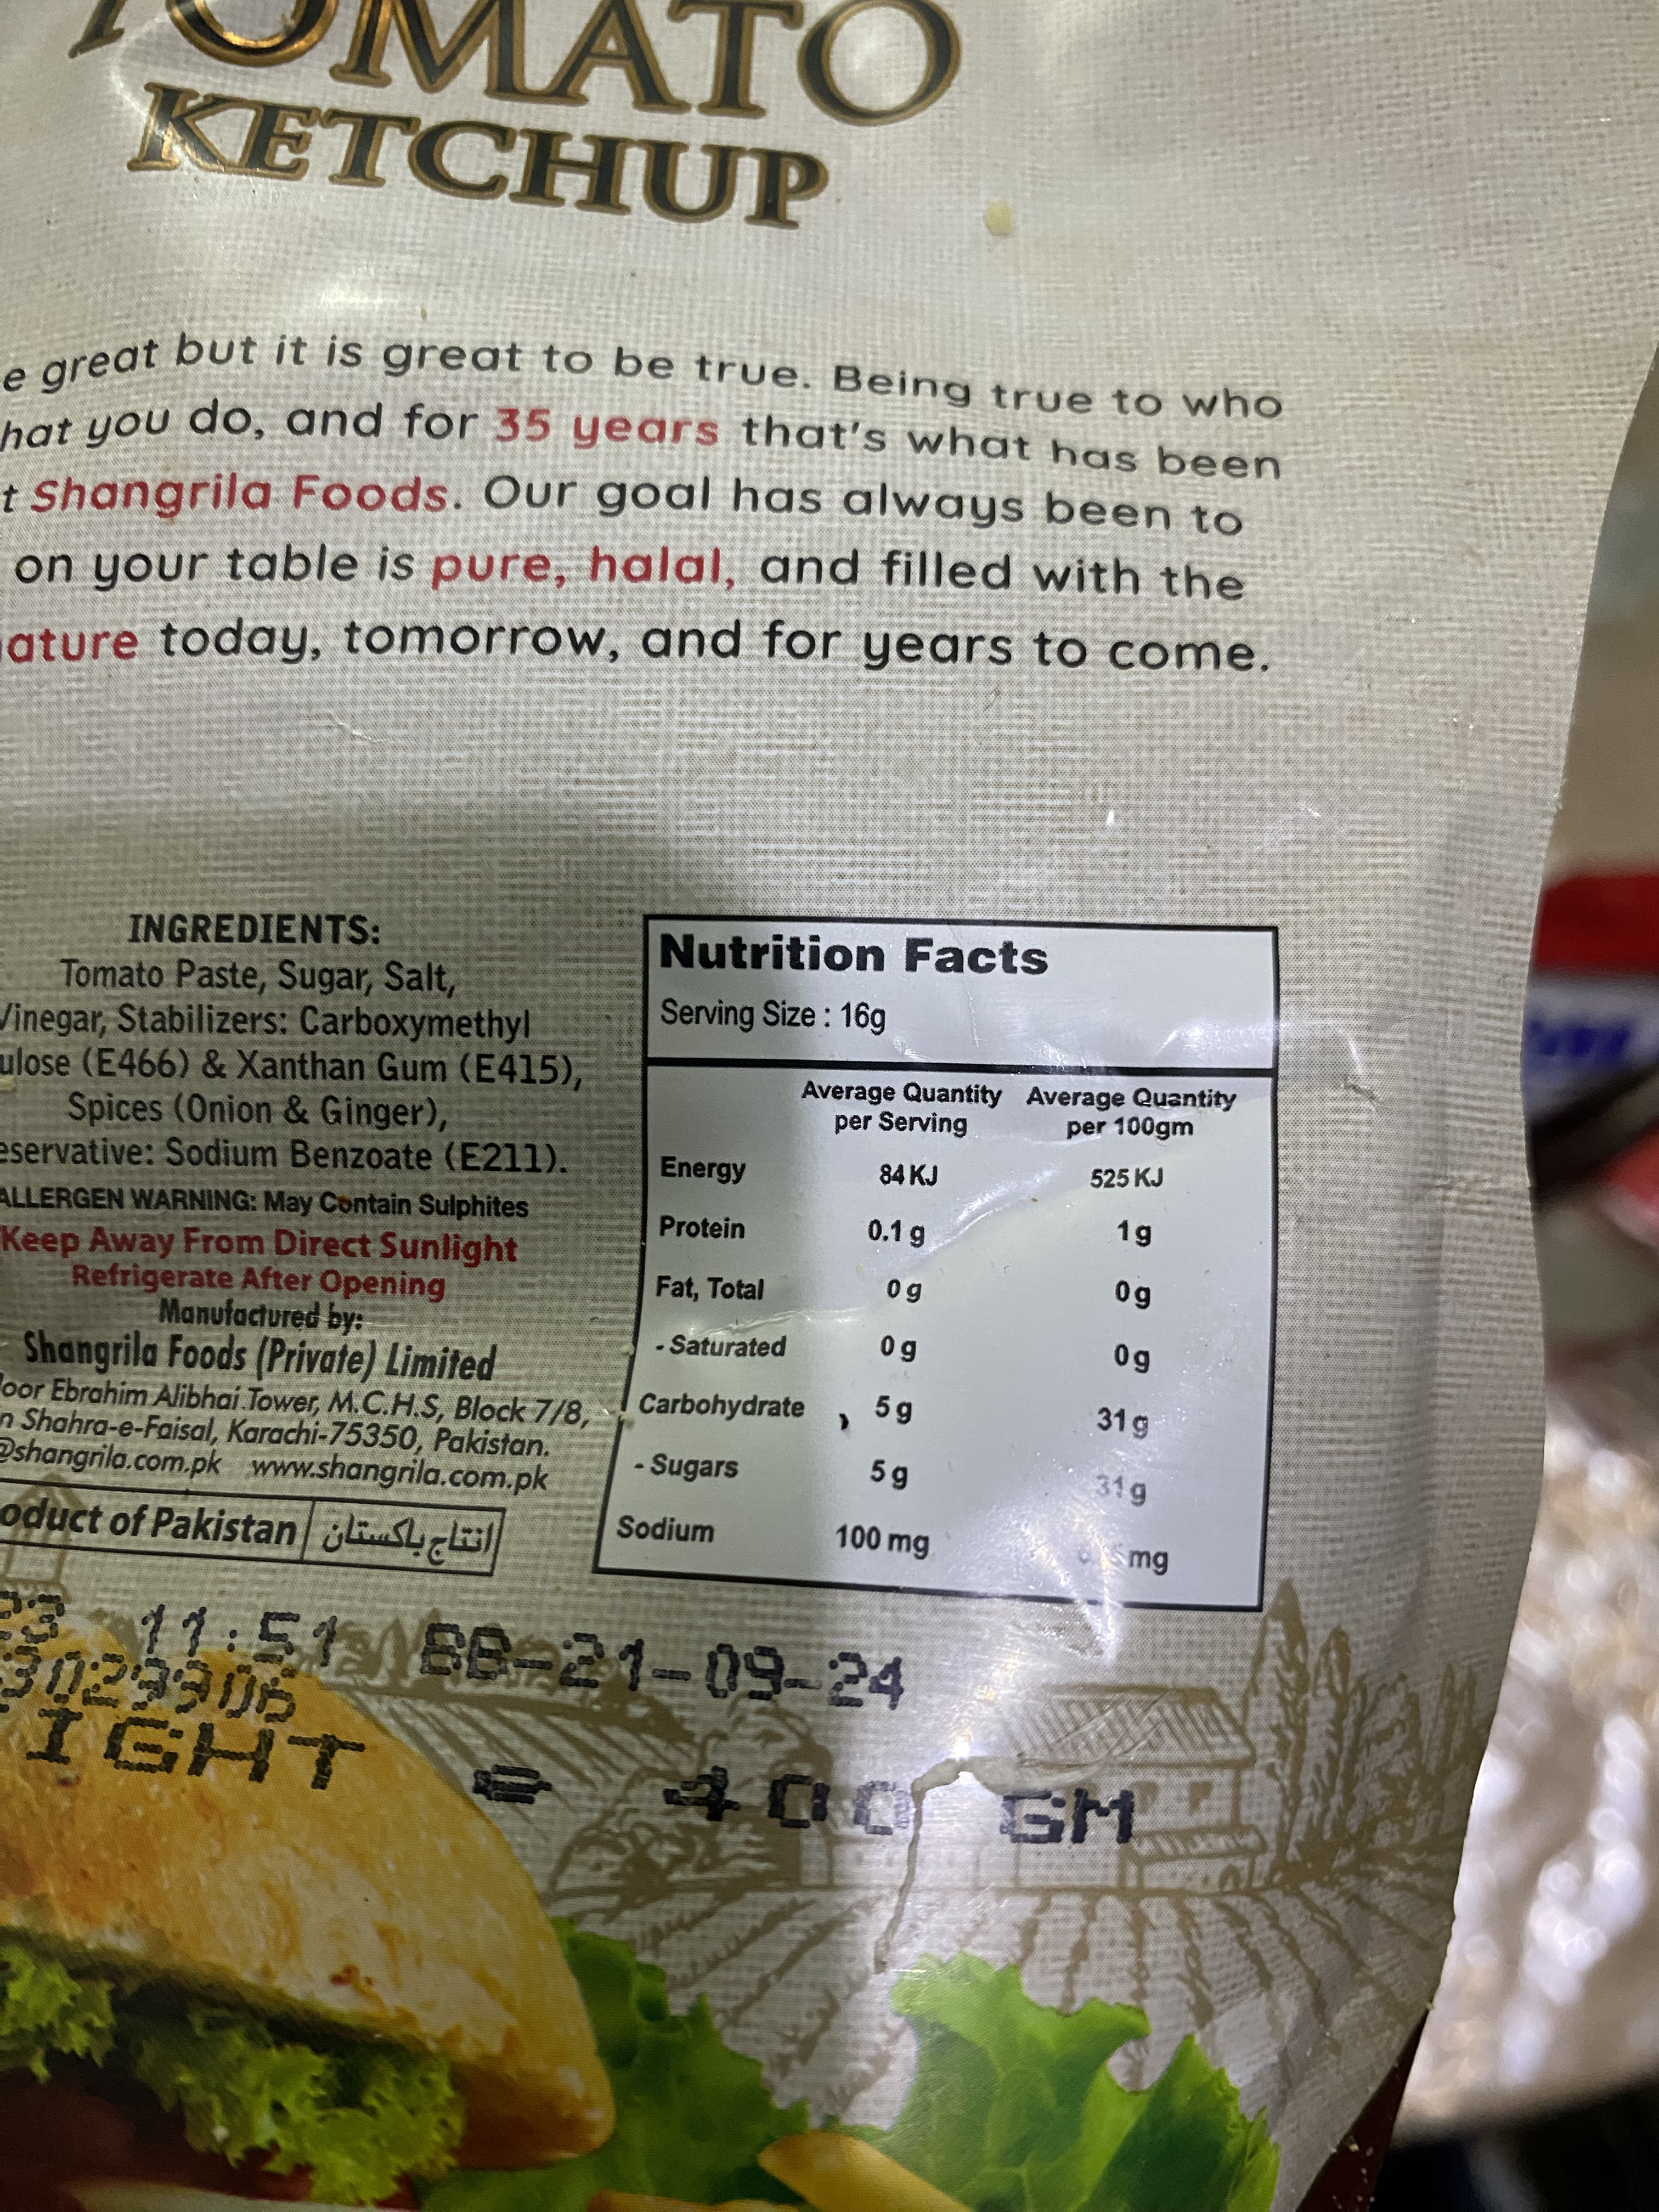table: (584, 888, 1309, 1639)
